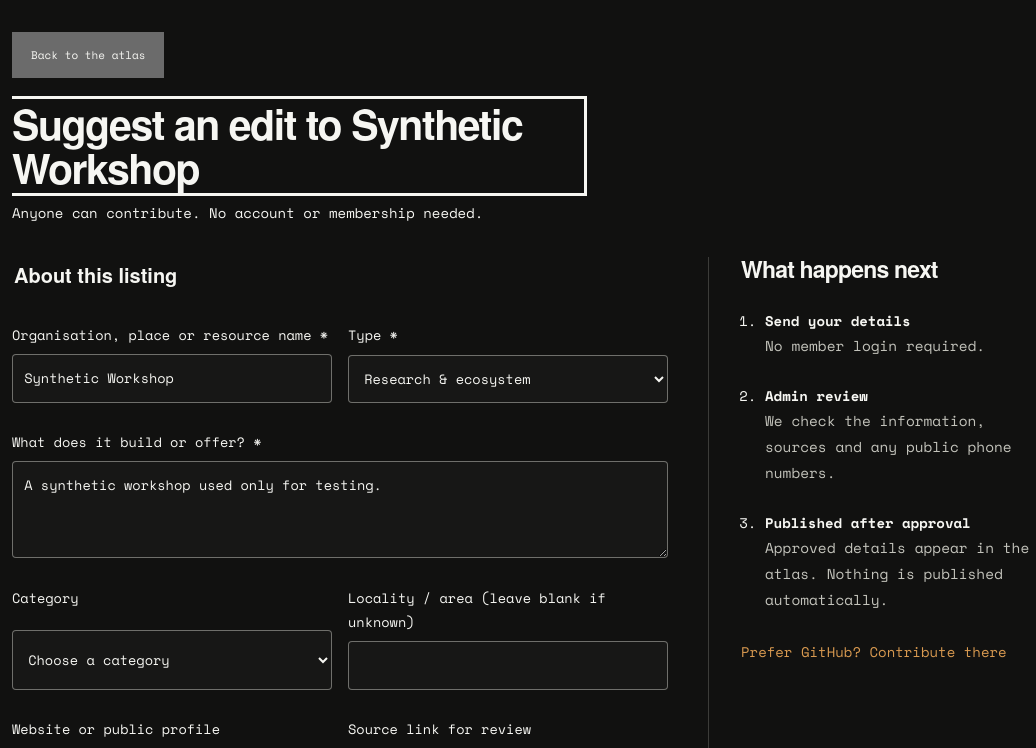
it: removes a hidden old pin and Maps link when switching a pinned listing to People
Expected: the field labelled "Organisation, place or resource name *" is shown, [12, 354, 332, 402]
Select "Other resources" in the dropdown labelled "Type *". click: (508, 379)
box: [348, 355, 668, 402]
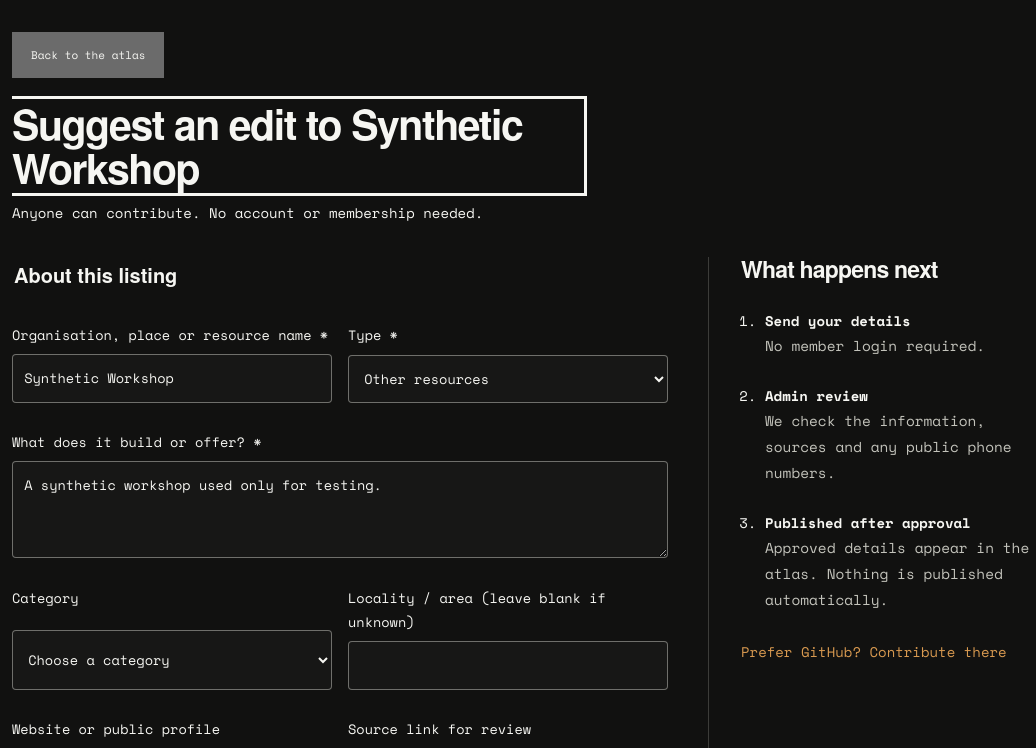
Select "People" in the dropdown labelled "Category". click: (172, 660)
box: [12, 630, 332, 690]
(page scrolled)
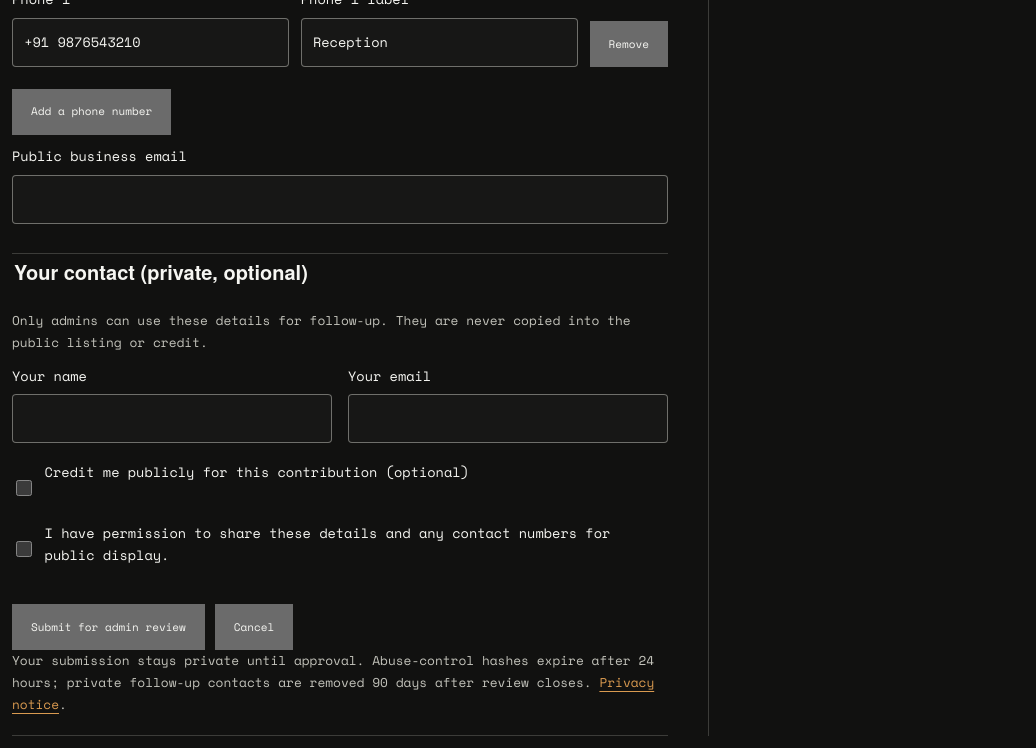
Click the checkbox labelled "I have permission". click: (24, 549)
box: [16, 527, 32, 571]
(page scrolled)
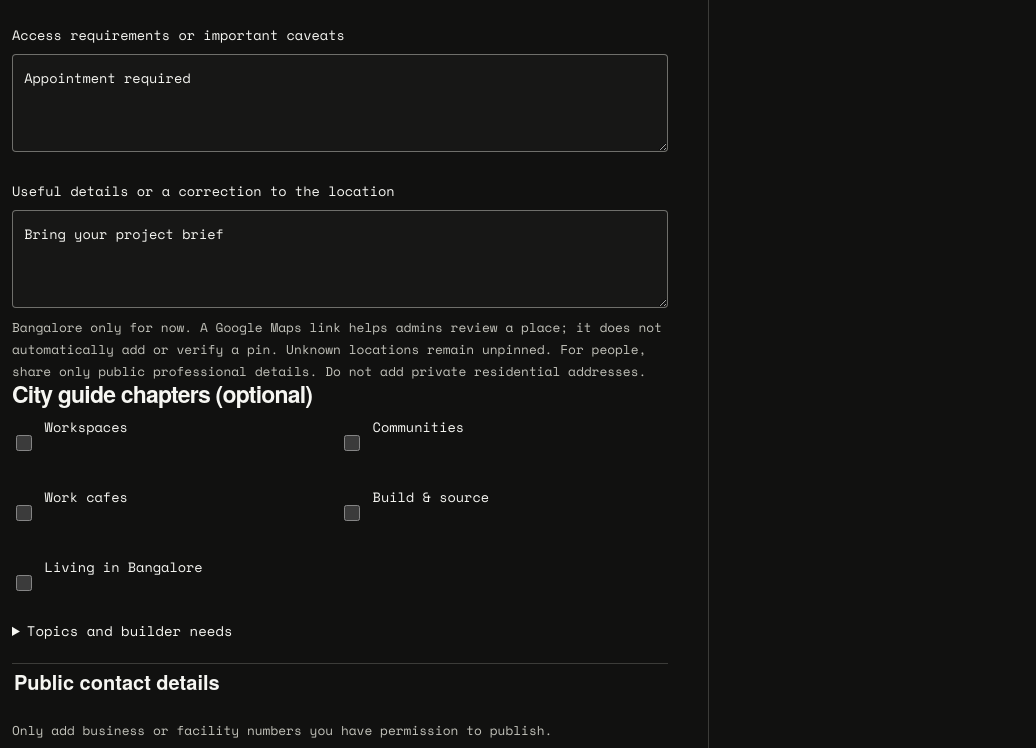
Submit the form named "Submit for admin review"
(page scrolled)
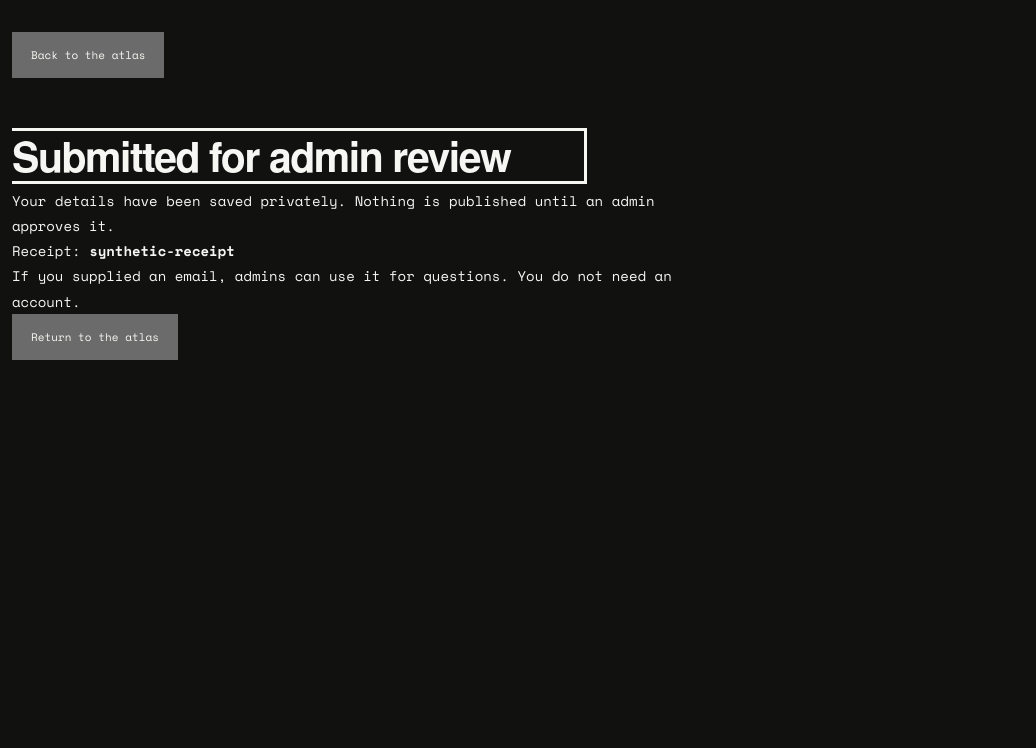
Expected: the text "synthetic-receipt" is shown, [89, 240, 235, 261]
